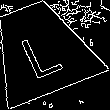L_NW: (14, 20, 66, 78)
